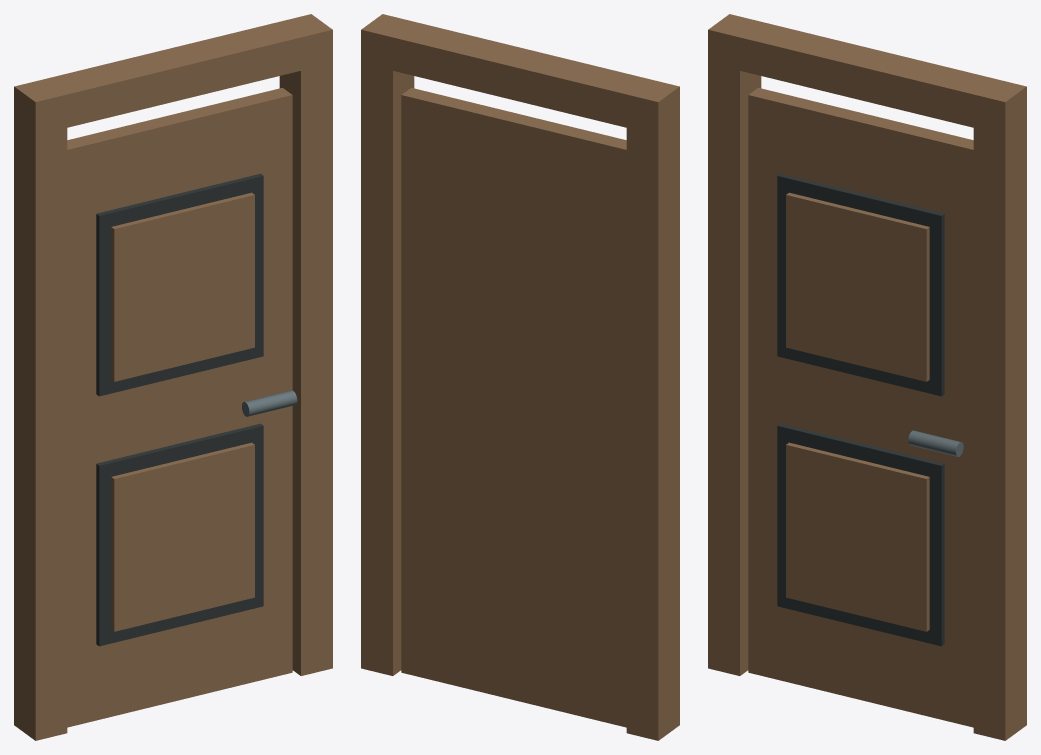
The model's file is door.glb.
3 views of the same model, side by side, from view 1: azimuth 30°, elevation 25°; view 2: azimuth 150°, elevation 25°; view 3: azimuth 330°, elevation 25° (orthographic).
Visible parts, largest first — view 1: Деревянная дверь; view 2: Деревянная дверь; view 3: Деревянная дверь.
Part boxes in pixels (x1=…): Деревянная дверь: x1=14, y1=14, x2=332, y2=740; Деревянная дверь: x1=361, y1=14, x2=679, y2=740; Деревянная дверь: x1=708, y1=14, x2=1026, y2=740.
Size of the model in its own units: 1.12 by 2.3 by 0.185.
